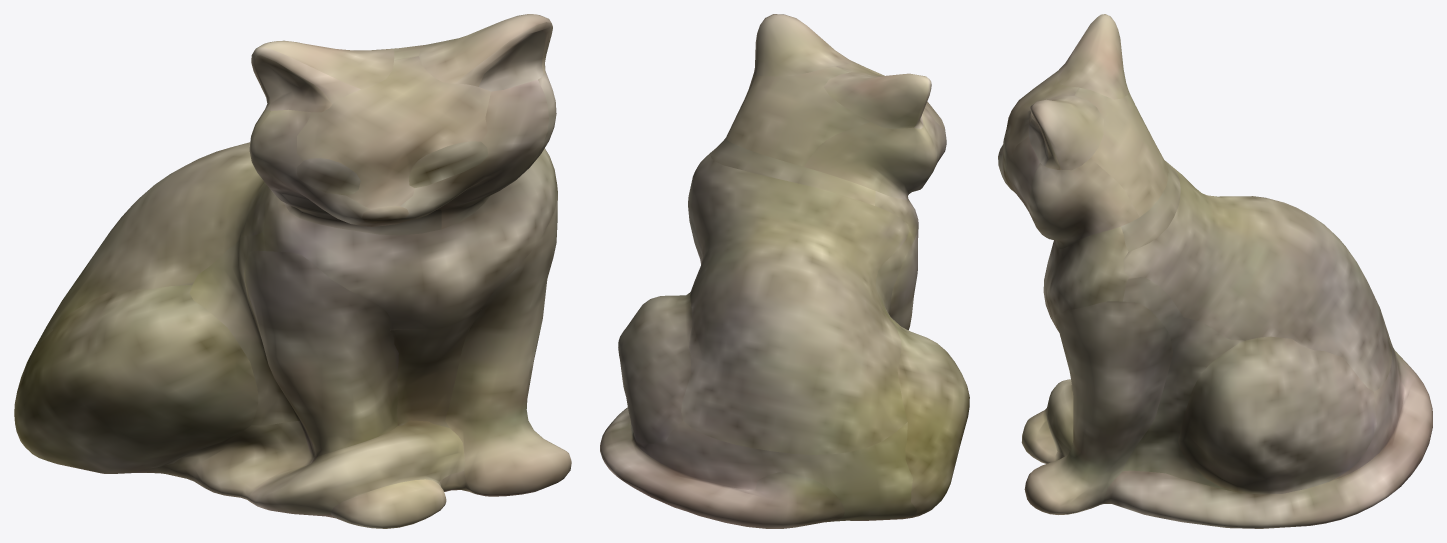
File: ph-concrete-cat-statue.glb
The picture shows the model from 3 angles, left to right: view 1: azimuth 30°, elevation 25°; view 2: azimuth 150°, elevation 25°; view 3: azimuth 270°, elevation 25°; orthographic projection. The views are drawn at different scales.
Parts seen in each view (by area): view 1: concrete_cat_statue; view 2: concrete_cat_statue; view 3: concrete_cat_statue.
Boxes of the visible parts, <box> form: concrete_cat_statue: <box>14,14,571,528</box>; concrete_cat_statue: <box>600,14,969,528</box>; concrete_cat_statue: <box>998,14,1432,528</box>.
Bounding box in the file's own units: 1 × 1 × 1.
1 material, 1 textured.
